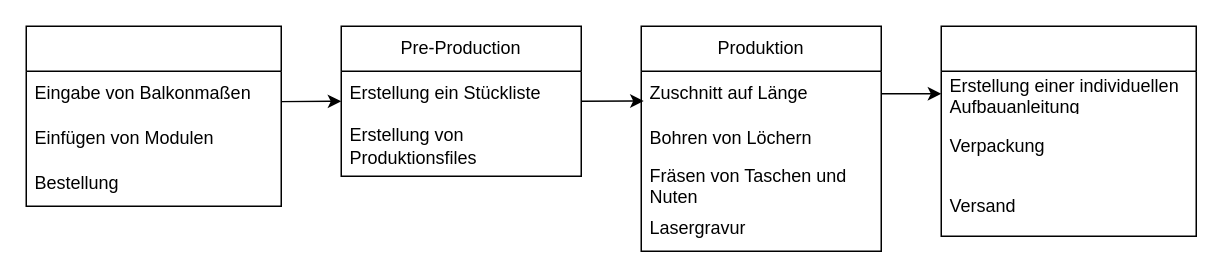
Image size: 1223x278. Some labels were removed from this diagram. The box of each missing label's shape, as (x1, y1, x2, y2) in pixels:
Online Konfigurator: (25, 25, 281, 206)
Post-Production: (940, 25, 1196, 236)
